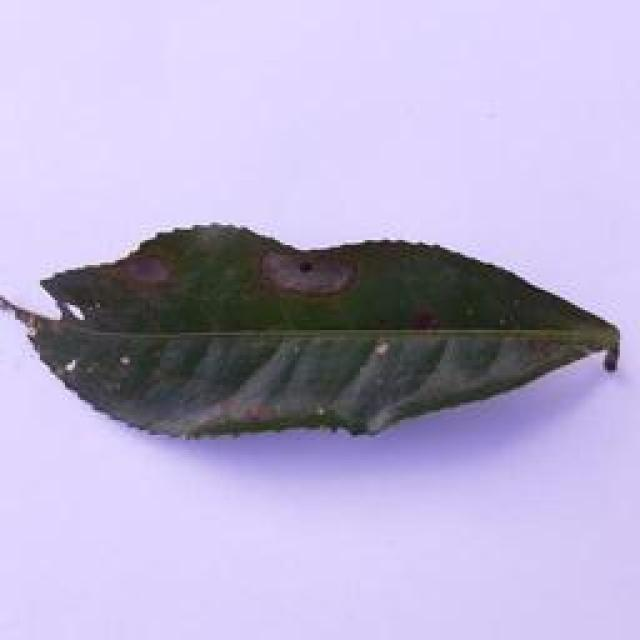Gray Blight: (0, 220, 624, 448)
